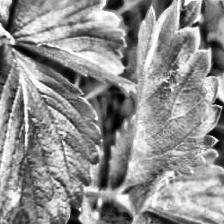Powdery Mildew Leaf: (114, 0, 224, 194), (0, 44, 103, 224)
